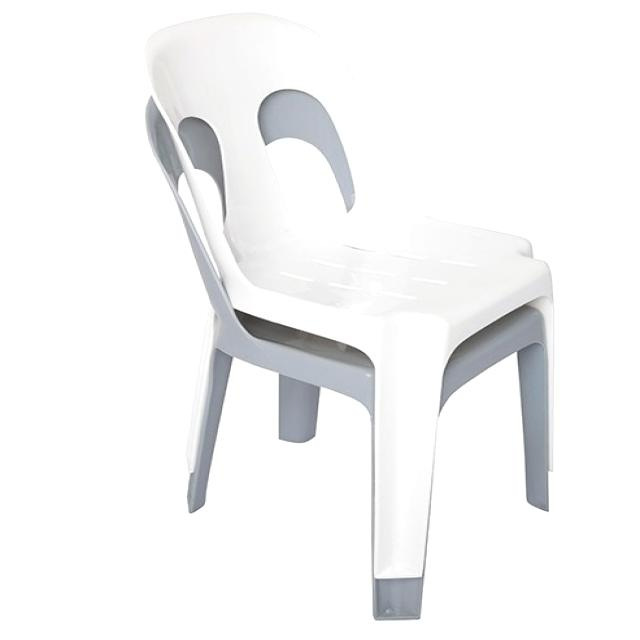Chair: (140, 11, 573, 627)
